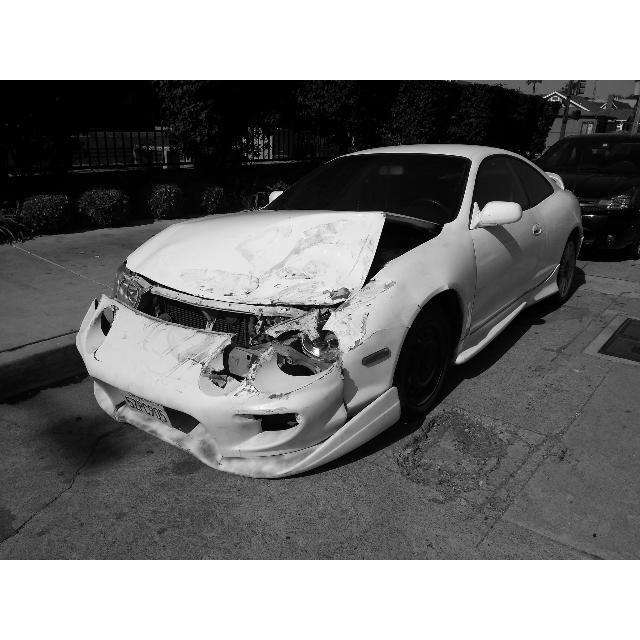Headlight-damage: (207, 308, 359, 386)
bonnet-dent: (122, 199, 435, 297)
front-bumper-dent: (68, 341, 258, 447)
